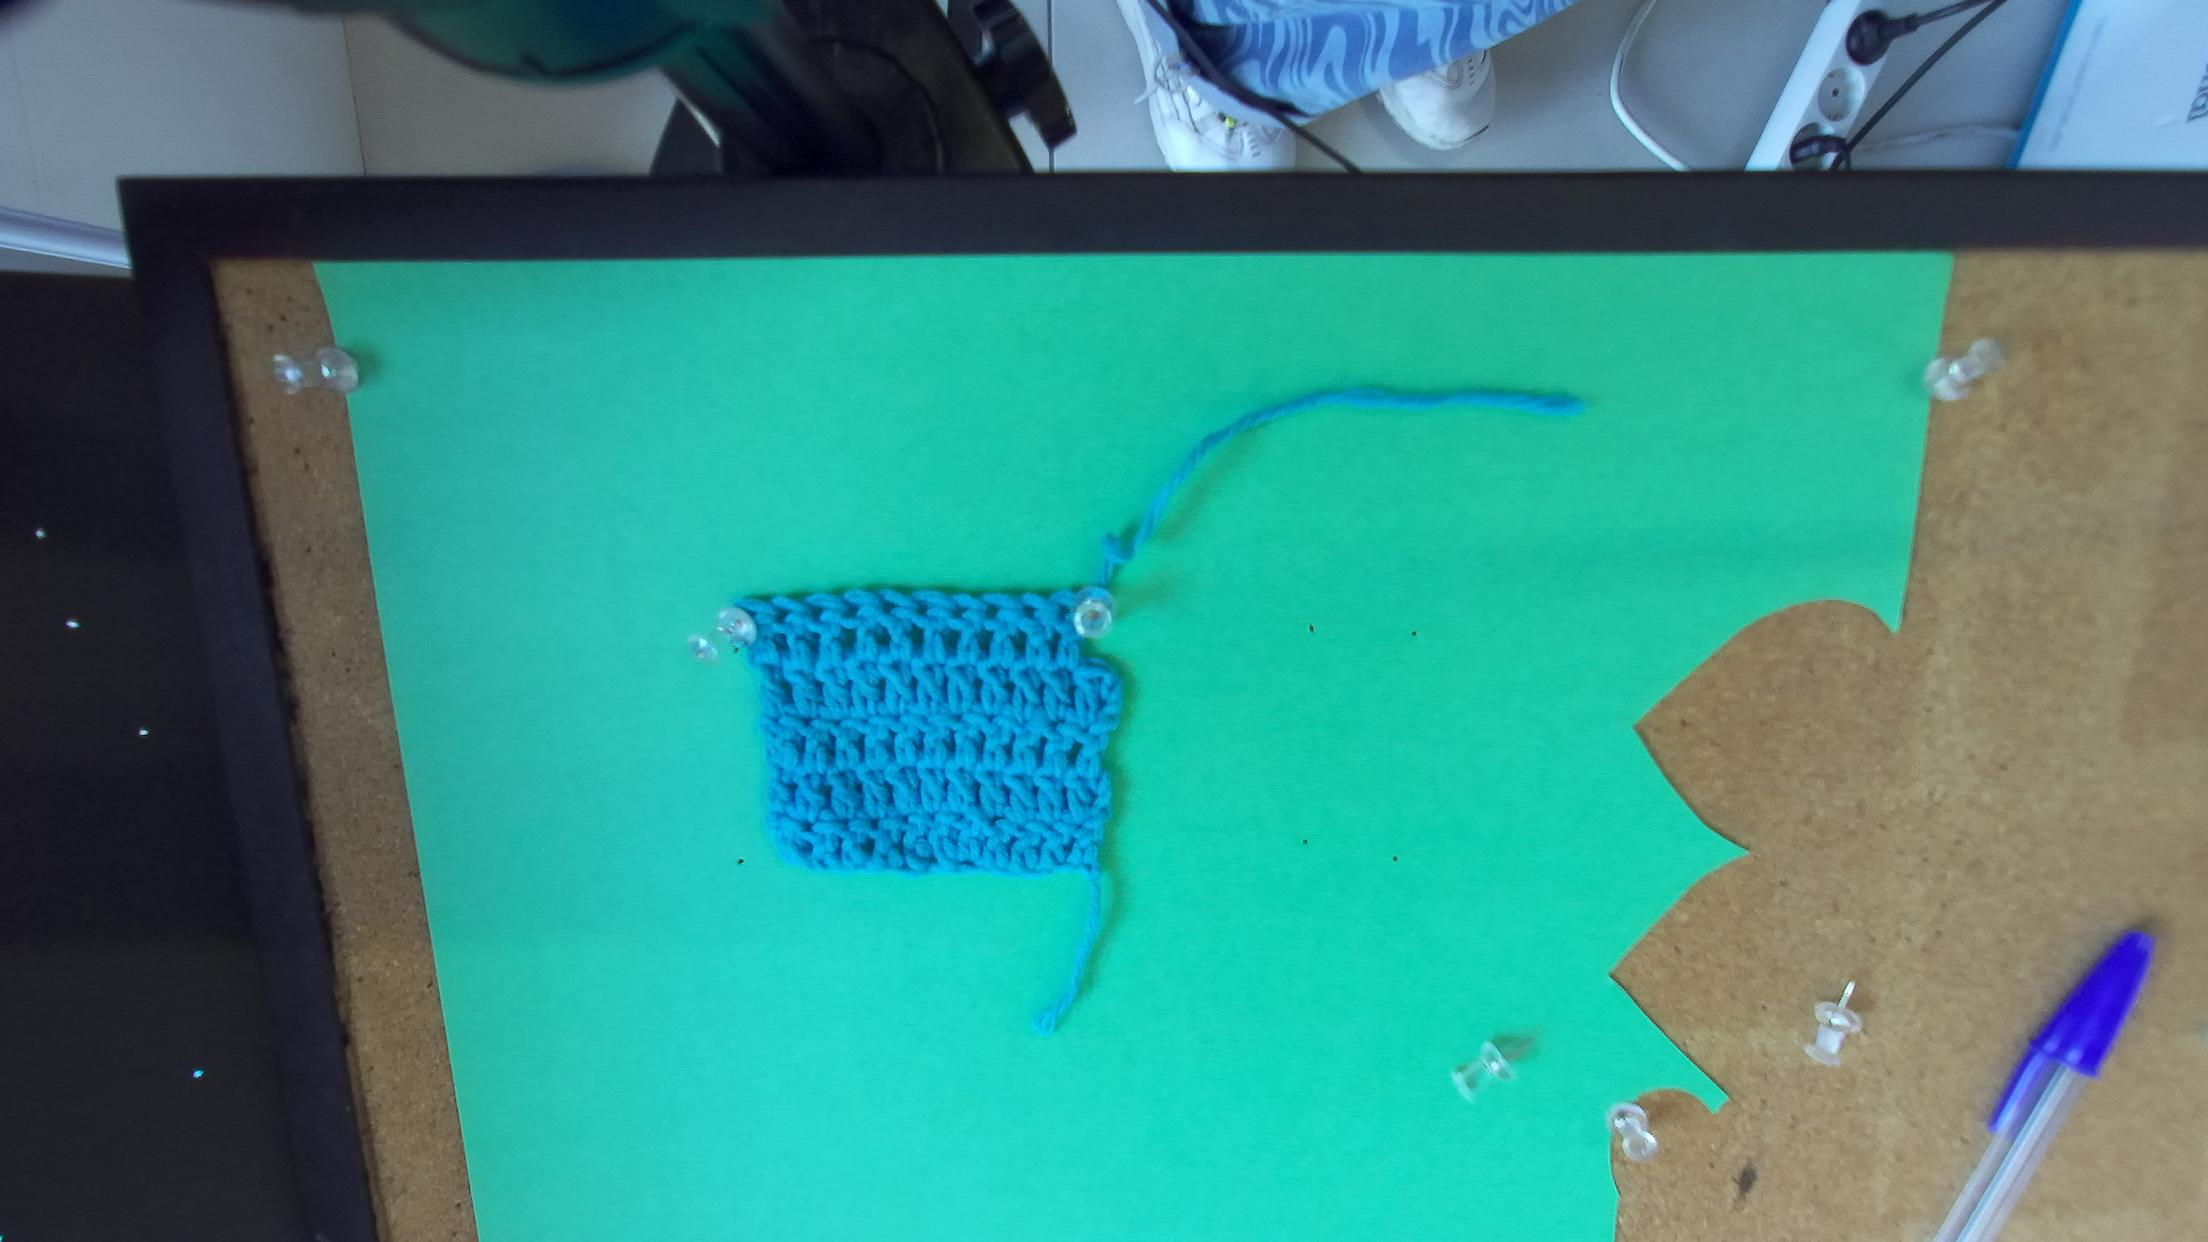hole: (913, 599, 937, 616), (842, 599, 861, 619), (773, 605, 793, 623), (808, 605, 830, 622), (880, 599, 901, 616), (951, 604, 971, 619), (984, 604, 1001, 620), (1055, 604, 1071, 622), (1024, 605, 1037, 619)
swatch: (707, 587, 1128, 881)
